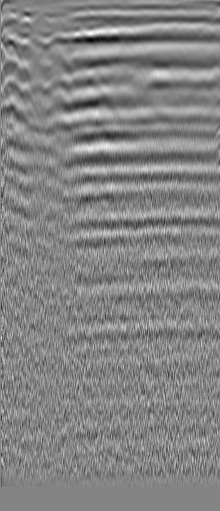오수: (29, 10, 49, 30)
우수: (174, 28, 194, 48)
